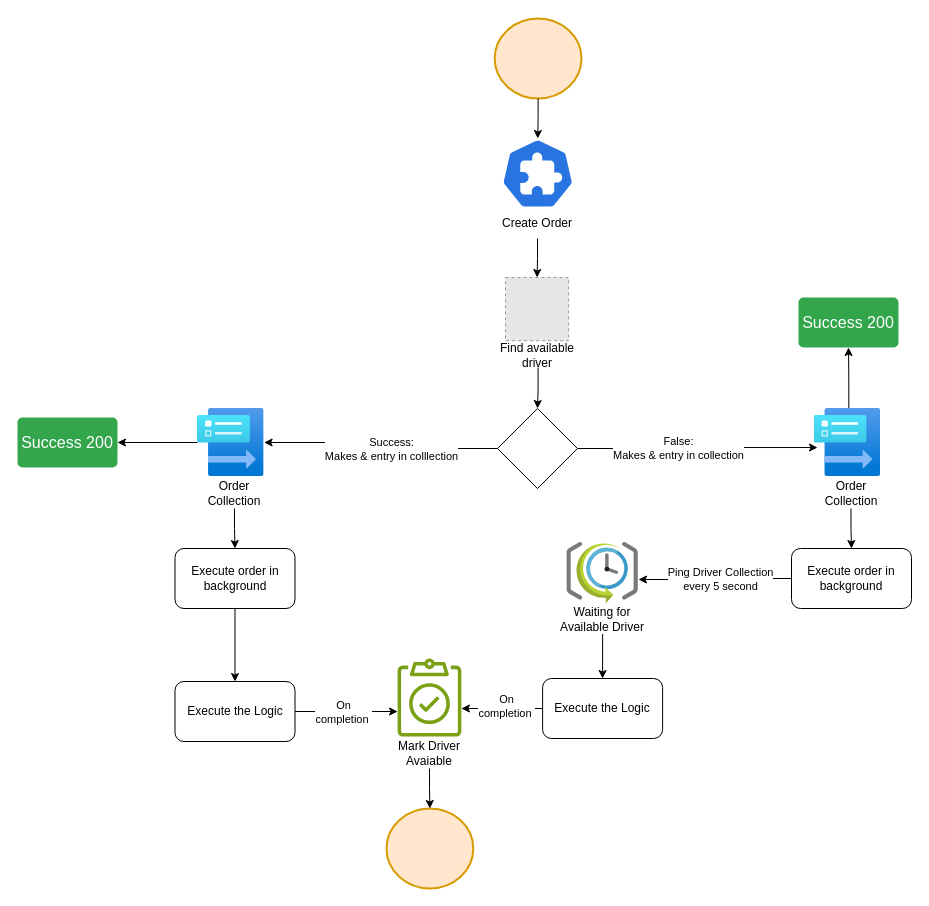
Some shapes in this 929 by 906 pixel diagram are drawn without their labels. Grey dashed boxes stand in for pictures. The shapes that lost their labels are listed below. From the top down, each one's centre as x and y in pixels, then its label:
At (537,58): "Start".
At (537,448): "If".
At (429,848): "End".
